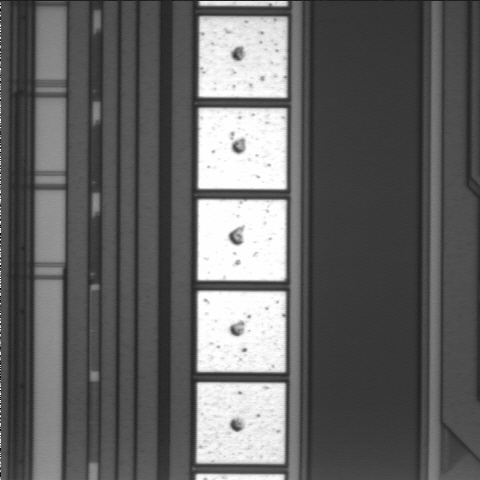pad: (197, 199, 286, 281), (196, 382, 285, 464), (198, 108, 287, 189), (197, 291, 286, 372), (199, 17, 287, 98)
